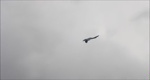maybay_muctieu: (83, 31, 99, 45)
